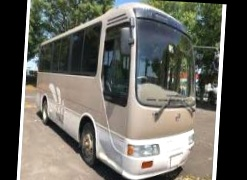bus: (31, 0, 205, 180)
